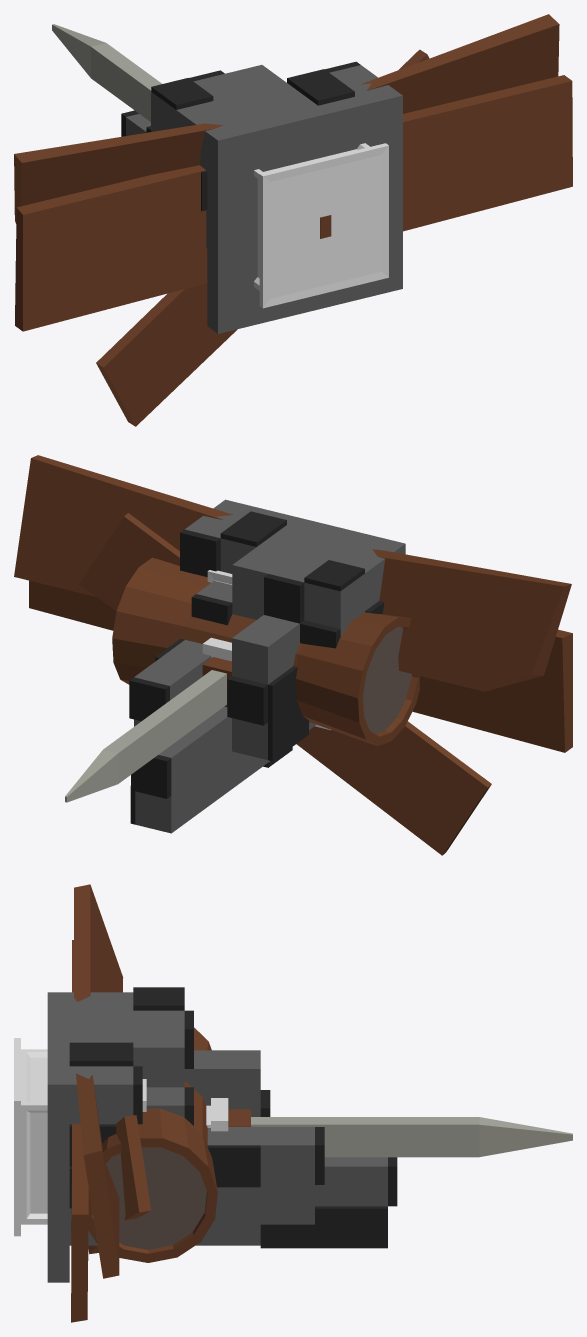
The model's file is Item.fbx.
The picture shows the model from 3 angles, top to bottom: view 1: azimuth 30°, elevation 25°; view 2: azimuth 150°, elevation 25°; view 3: azimuth 270°, elevation 25°; orthographic projection. The views are drawn at different scales.
Visible parts, largest first — view 1: WoodPlank, Stone, Potion, Sword, Coal; view 2: WoodPlank, Stone, Log, Coal, Sword, Potion; view 3: Stone, WoodPlank, Coal, Log, Sword, Potion.
Boxes of the visible parts, box(x1,y1,x2,y2) form: WoodPlank: box(14, 14, 572, 426); Stone: box(126, 65, 402, 333); Potion: box(254, 143, 388, 308); Sword: box(52, 24, 331, 238); Coal: box(121, 61, 360, 211); WoodPlank: box(14, 455, 572, 855); Stone: box(134, 499, 405, 833); Log: box(112, 557, 419, 746); Coal: box(129, 511, 384, 824); Sword: box(65, 670, 226, 802); Potion: box(202, 570, 330, 730); Stone: box(47, 992, 387, 1282); WoodPlank: box(71, 884, 151, 1322); Coal: box(69, 987, 397, 1248); Log: box(88, 1027, 217, 1262); Sword: box(251, 1117, 572, 1157); Potion: box(14, 1038, 250, 1236).
Bounding box in the file's own units: 986 × 524 × 848.
